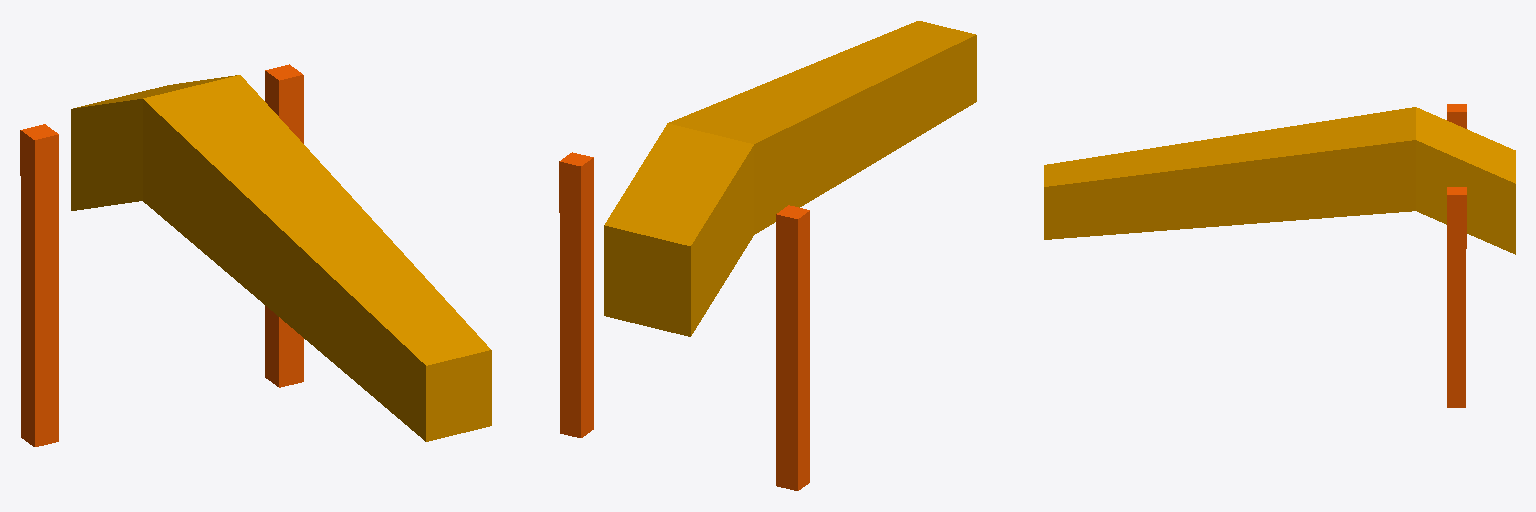
The robot description file, URDF, robot "gripper":
<?xml version="1.0"?>
<robot name="gripper">


    <material name="grey">
        <color rgba="0.2 0.2 0.2 1.0"/>
      </material>
      <material name="orange">
        <color rgba="1.0 0.423529411765 0.0392156862745 1.0"/>
      </material>
      <material name="blue">
      <color rgba="0.5 0.7 1.0 1.0"/>
    </material>

  <link name="trunk">
    <collision>
        <geometry>
            <mesh filename="hunchback.obj" scale="0.1 0.15 0.1"/>
        </geometry>
        <origin xyz="0 0 0" rpy="0 0 0"/>
    </collision>
    <visual>
            <geometry>
                <mesh filename="hunchback.obj" scale="0.1 0.15 0.1"/>
            </geometry>
            <origin xyz="0 0 0" rpy="0 0 0"/>
    </visual>
    <inertial>
      <mass value="20."/>
      <inertia ixx="0.001" ixy="0.0" ixz="0.0" iyy="0.001" iyz="0.0" izz="0.001"/>
    </inertial>
  </link>

    <link name="shoulder_left">
        <collision>
            <geometry>
                <cylinder radius="0.1" length="0.2"/>
            </geometry>
            <origin xyz="0 -0.1 0" rpy="1.57 0 0"/>
        </collision>
        <inertial>
                      <mass value="2."/>
                      <inertia ixx="0.001" ixy="0.0" ixz="0.0" iyy="0.001" iyz="0.0" izz="0.001"/>
                  </inertial>
      </link>

  <link name="shoulder">
    <collision>
        <geometry>
            <cylinder radius="0.1" length="0.2"/>
        </geometry>
        <origin xyz="0 -0.1 0" rpy="1.57 0 0"/>
    </collision>
   <inertial>
                         <mass value="2."/>
                         <inertia ixx="0.001" ixy="0.0" ixz="0.0" iyy="0.001" iyz="0.0" izz="0.001"/>
                     </inertial>
  </link>

  <link name="arm">
      <collision>
          <geometry>
              <box size="0.05 0.6 0.05"/>
          </geometry>
          <origin xyz="0.05 0 -0.3" rpy="1.57 0 0"/>
      </collision>
      <visual>
                <geometry>
                    <box size="0.05 0.6 0.05"/>
                </geometry>
                <origin xyz="0.05 0 -0.3" rpy="1.57 0 0"/>
                <material name="orange"/>
            </visual>
     <inertial>
           <mass value="2."/>
           <inertia ixx="0.001" ixy="0.0" ixz="0.0" iyy="0.001" iyz="0.0" izz="0.001"/>
       </inertial>
    </link>

    <link name="arm_left">
      <collision>

          <geometry>
              <box size="0.05 0.6 0.05"/>
          </geometry>
          <origin xyz="-0.05 0 -0.3" rpy="1.57 0 0"/>
      </collision>
      <visual>

                <geometry>
                    <box size="0.05 0.6 0.05"/>
                </geometry>
                <origin xyz="-0.05 0 -0.3" rpy="1.57 0 0"/>
                <material name="orange"/>
            </visual>
     <inertial>
                           <mass value="2."/>
                           <inertia ixx="0.001" ixy="0.0" ixz="0.0" iyy="0.001" iyz="0.0" izz="0.001"/>
                       </inertial>
    </link>


  <joint name="trunk_to_shoulder" type="revolute">
    <parent link="trunk"/>
    <child link="shoulder"/>
    <origin xyz="0.2 0.45 0.15" rpy="0 0 0"/>
    <axis xyz="0 1 0"/>
    <limit lower="-0.3425" upper="0"></limit>
  </joint>

  <joint name="shoulder_to_arm" type="revolute">
      <parent link="shoulder"/>
      <child link="arm"/>
      <origin xyz="0 0 0" rpy="0 0 0"/>
      <limit lower="-0.3425" upper="0"></limit>
    </joint>

 <joint name="trunk_to_left_shoulder" type="revolute">
        <parent link="trunk"/>
        <child link="shoulder_left"/>
        <origin xyz="-0.2 0.45 0.15" rpy="0 0 0"/>
        <axis xyz="0 1 0"/>
        <limit lower="0" upper=".3425"></limit>
      </joint>

  <joint name="left_shoulder_to_left_arm" type="revolute">
        <parent link="shoulder_left"/>
        <child link="arm_left"/>
        <origin xyz="0 0 0" rpy="0 0 0"/>
        <limit lower="-0.3425" upper="0"></limit>
      </joint>
</robot>

--- Facts derived from the render (not from the file) ---
The picture shows the robot from 3 angles, left to right: view 1: azimuth 30°, elevation 25°; view 2: azimuth 150°, elevation 25°; view 3: azimuth 270°, elevation 25°; orthographic projection.
Robot: gripper — 5 links, 4 joints (4 revolute); root link trunk; default pose: all joints at 0.
Visible links, largest first — view 1: trunk, arm_left, arm; view 2: trunk, arm, arm_left; view 3: trunk, arm.
Boxes of the visible links, box(x1,y1,x2,y2) form: trunk: box(71, 75, 491, 441); arm_left: box(20, 124, 58, 446); arm: box(265, 64, 303, 387); trunk: box(604, 21, 976, 336); arm: box(559, 152, 593, 437); arm_left: box(776, 205, 809, 490); trunk: box(1044, 107, 1515, 254); arm: box(1447, 187, 1466, 407).
Size in the robot's own frame: 0.55 by 1.2 by 0.6727 metres.
1 mesh visuals loaded from 1 distinct referenced files (1 OBJ).